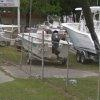Boat: (15, 25, 79, 66)
